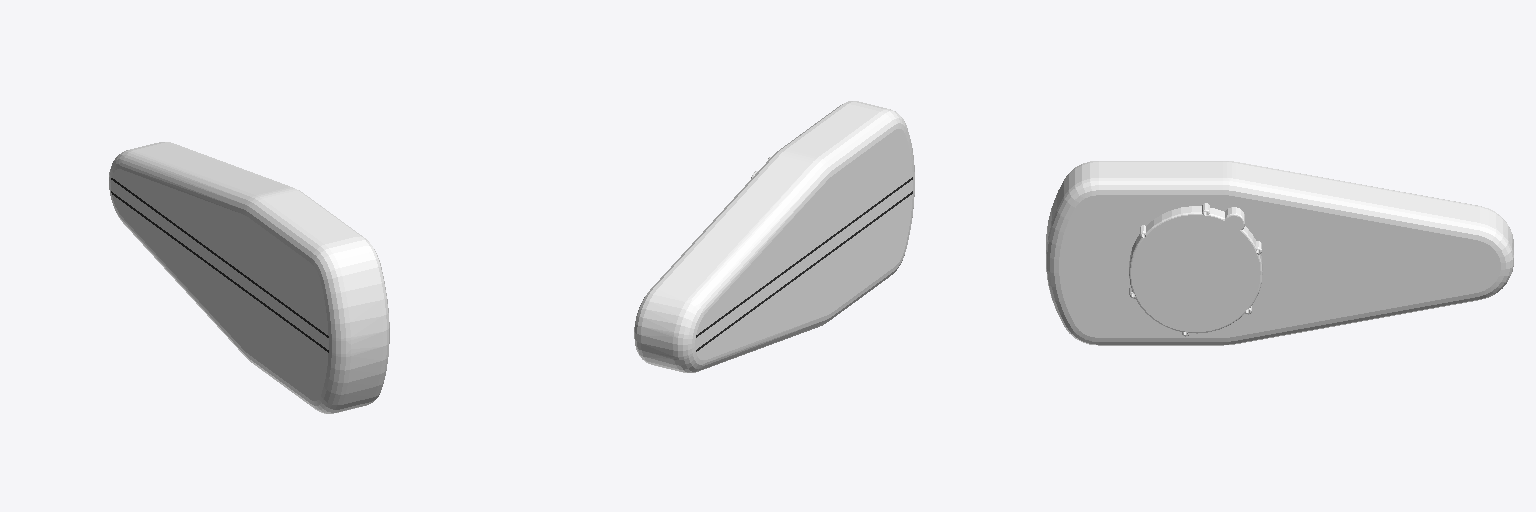
The picture shows the model from 3 angles: view 1: azimuth 30°, elevation 25°; view 2: azimuth 150°, elevation 25°; view 3: azimuth 270°, elevation 25°; orthographic projection.
Parts seen in each view (by area): view 1: Bryła1:2; view 2: Bryła1:2; view 3: Bryła1:2.
Part boxes in pixels (bbox=[...]): Bryła1:2: bbox=[109, 142, 389, 413]; Bryła1:2: bbox=[634, 101, 914, 372]; Bryła1:2: bbox=[1046, 161, 1513, 345].
Bounding box in the file's own units: 127 × 279 × 712.